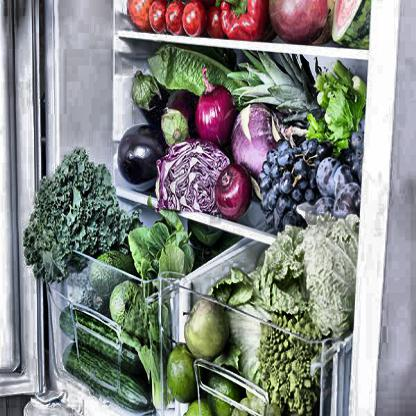apple: (185, 299, 229, 359)
cucumber: (61, 312, 145, 371), (65, 365, 147, 404)
eggplant: (120, 126, 164, 186), (165, 88, 194, 142), (133, 76, 166, 122)
lettuce: (28, 159, 114, 276)
red_bell_pepper: (220, 1, 268, 37)
red_cabbage: (157, 143, 218, 210)
red_grapes: (267, 147, 314, 219)
red_onion: (198, 85, 233, 145), (216, 166, 251, 217)
tangerine: (167, 347, 203, 398), (208, 363, 245, 412)
tomato: (184, 1, 206, 33), (167, 3, 184, 34), (150, 0, 166, 32)
